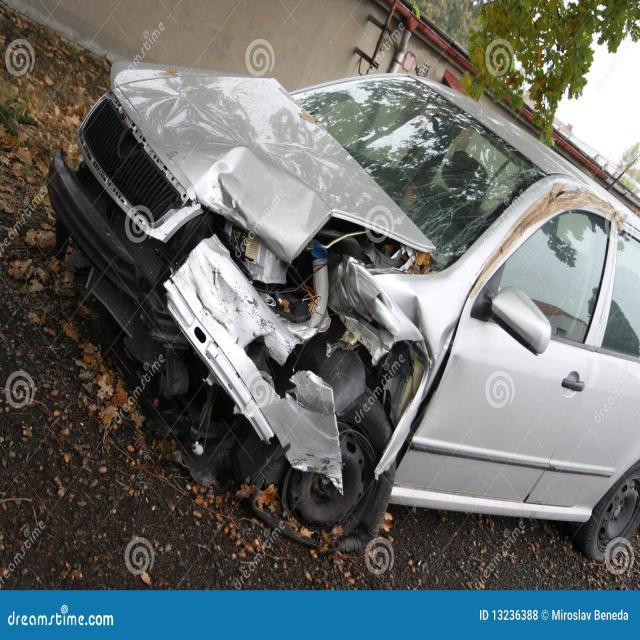crush: (50, 78, 627, 551)
